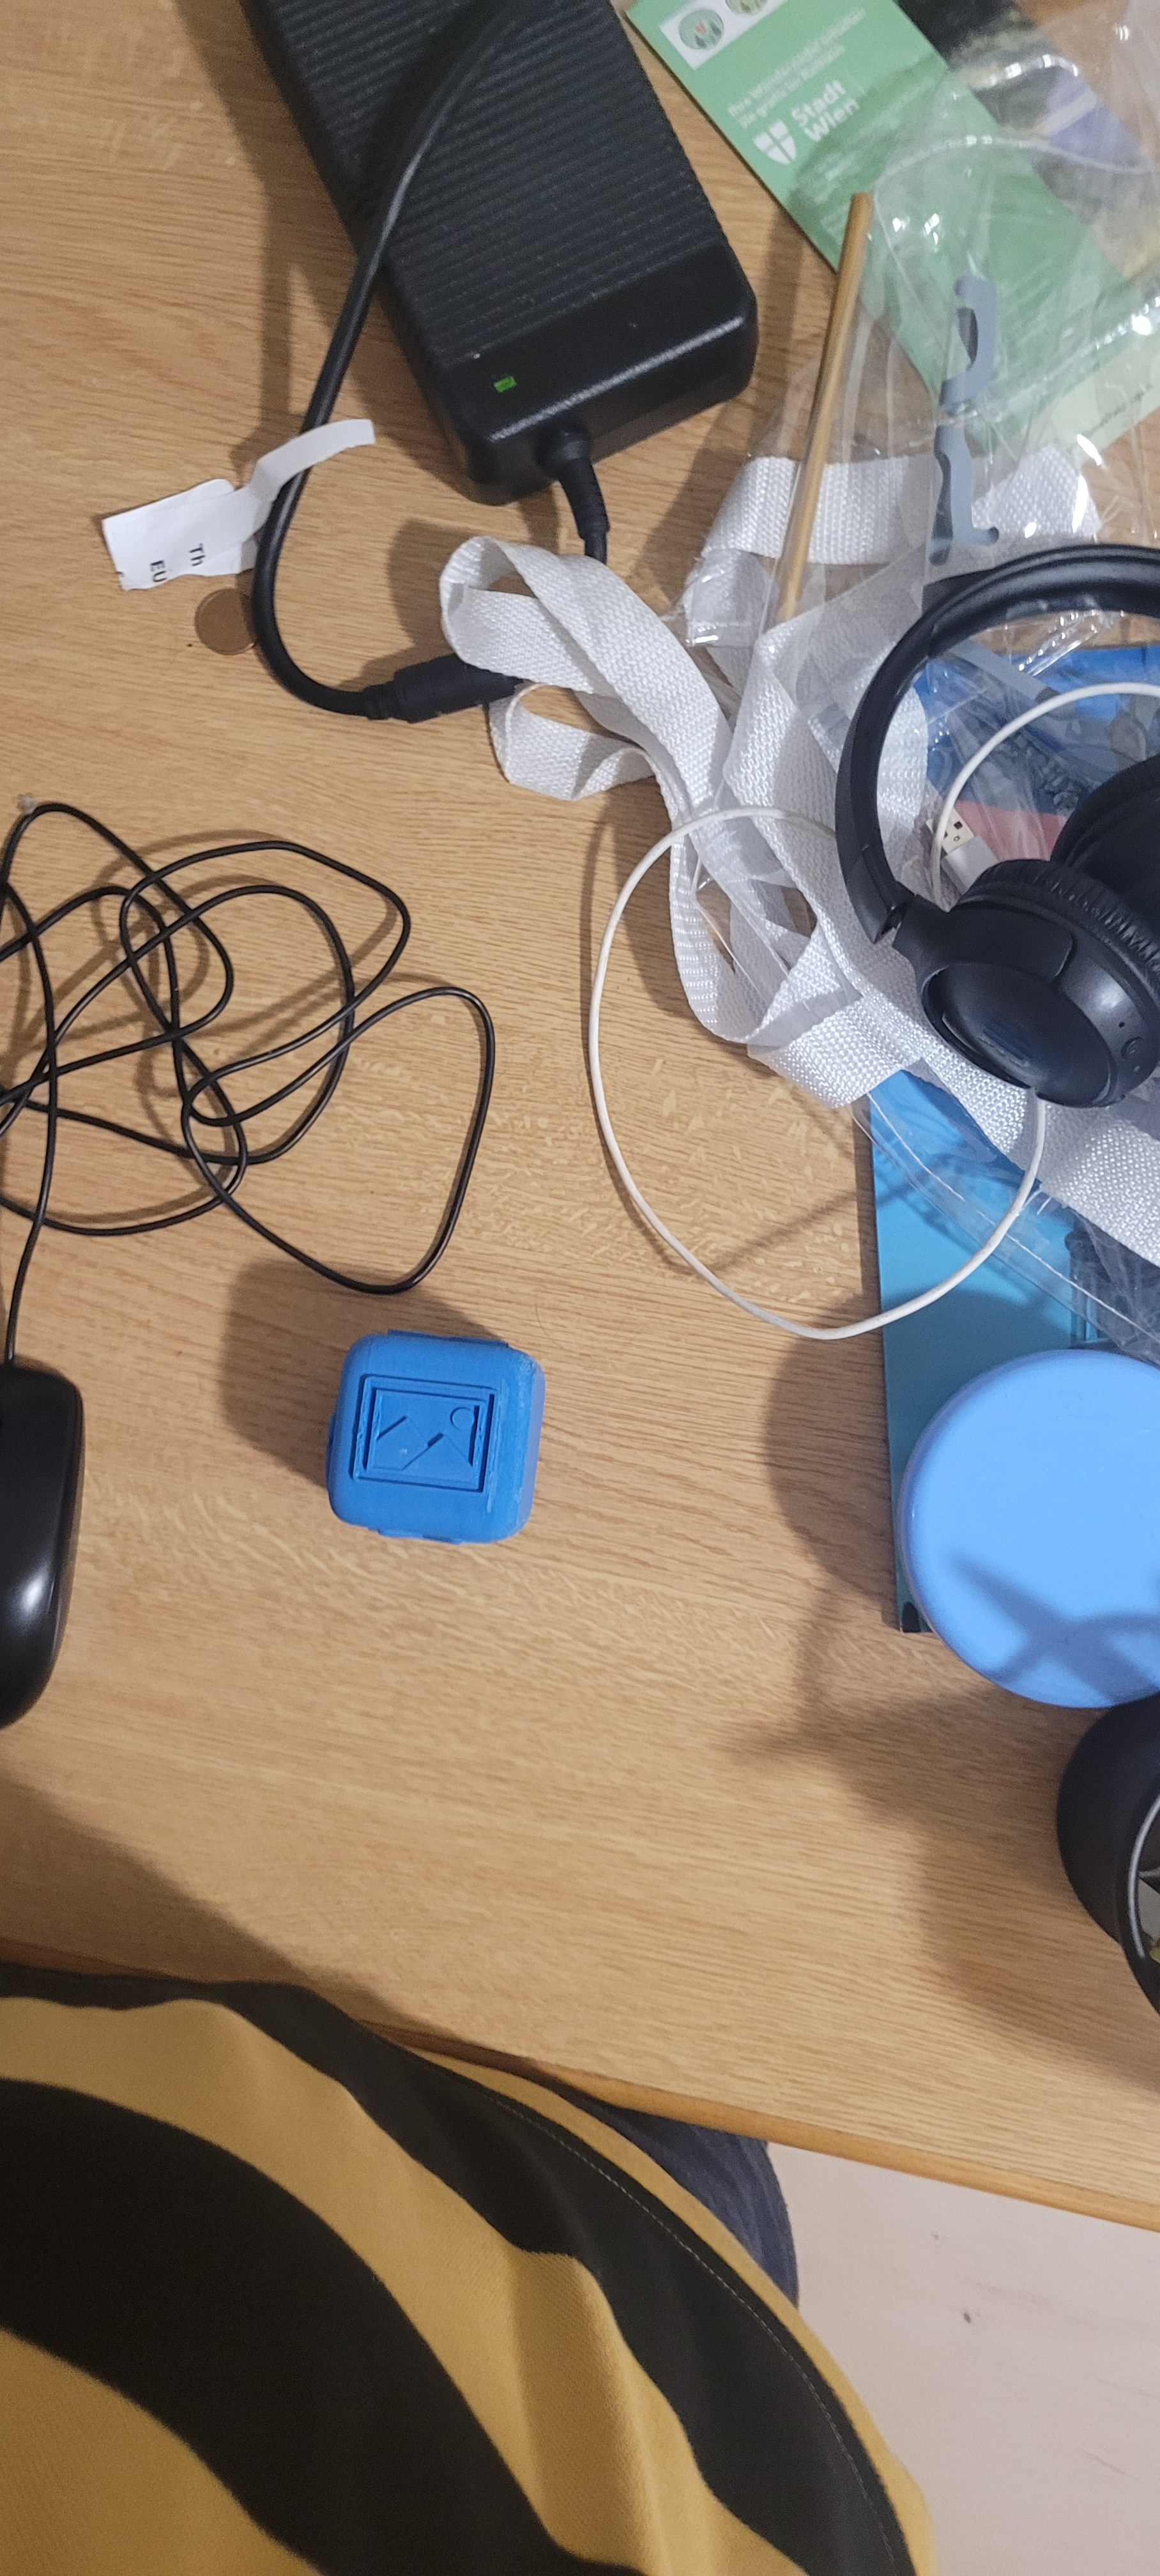Story: (343, 1334, 509, 1526)
